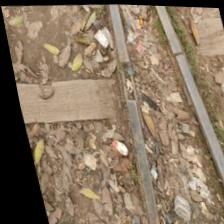person: (104, 57, 148, 103), (162, 41, 192, 65)
